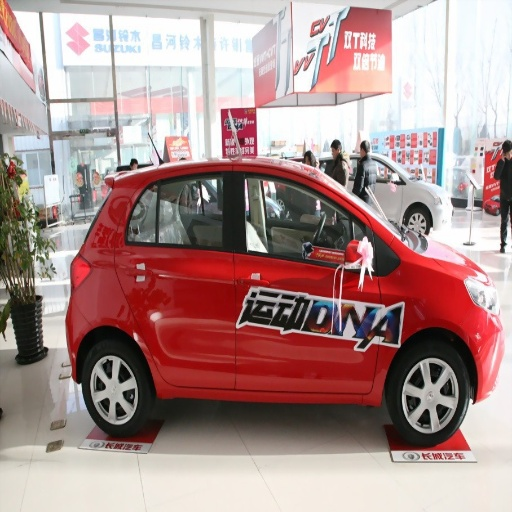back_right_door: (117, 169, 243, 385)
front_right_door: (235, 170, 378, 390)
